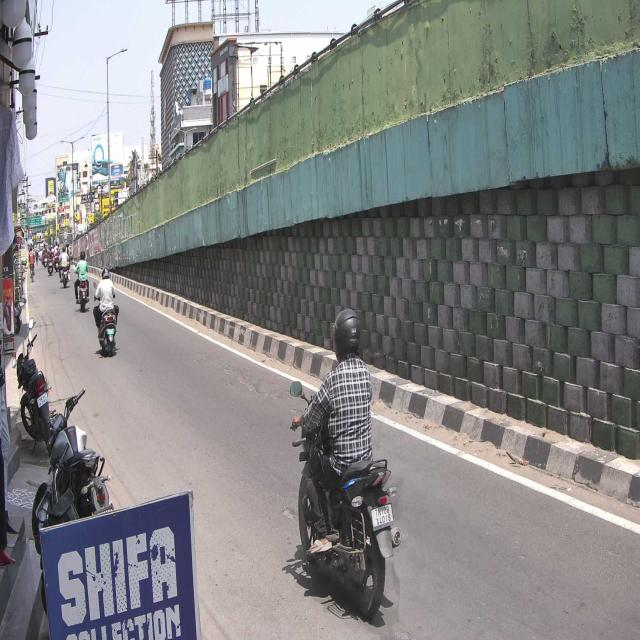single_rider: (290, 306, 401, 622)
